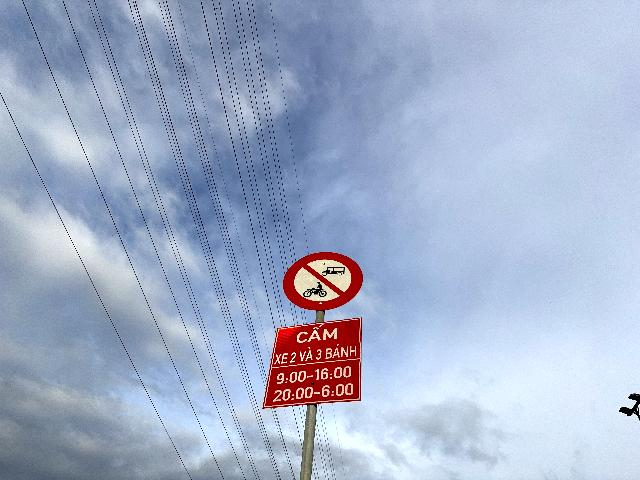cam-xe-2-banh-3-banh: (283, 252, 364, 310)
